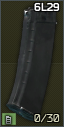AK-101 5.56x45 6L29 30-round magazine: (0, 0, 64, 127)
